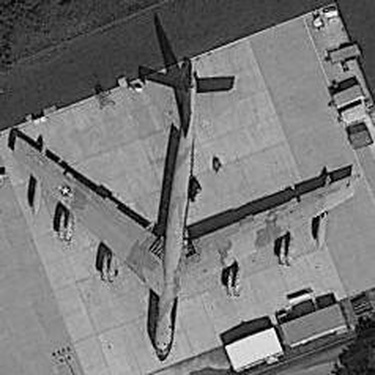airplane: (11, 19, 362, 366)
